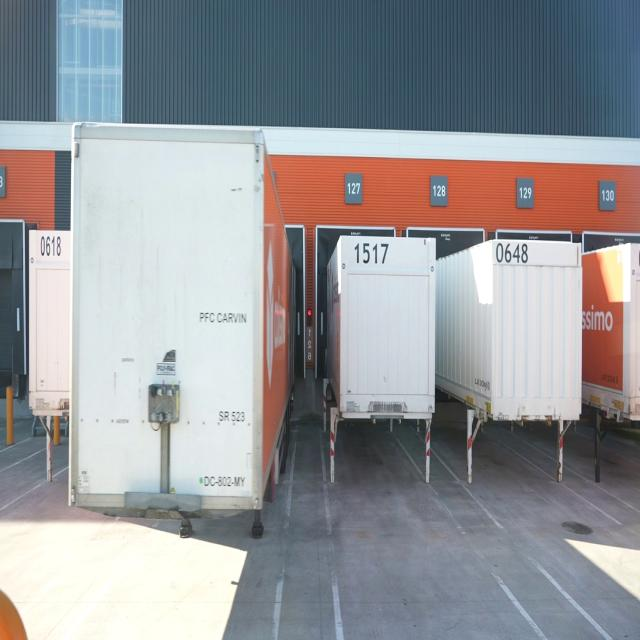Code: (350, 236, 390, 268), (494, 237, 532, 269), (37, 230, 63, 262)
